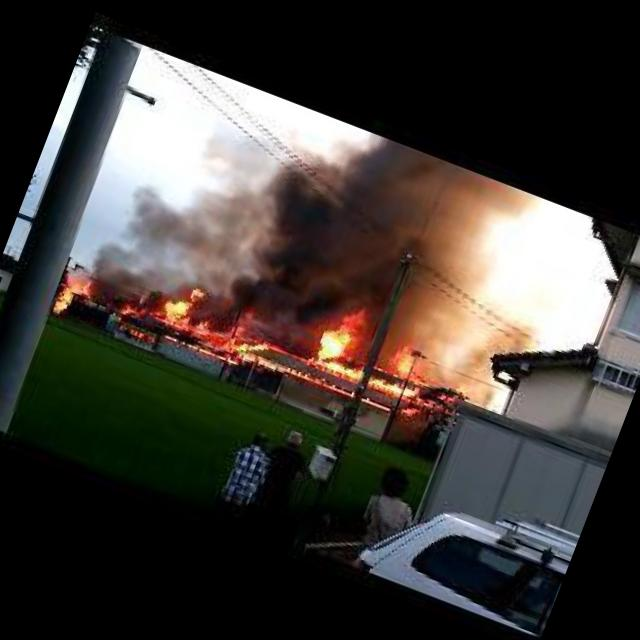fire: (112, 262, 277, 366), (305, 311, 432, 403), (245, 350, 392, 416), (401, 372, 472, 434), (162, 332, 242, 368), (53, 276, 92, 320), (115, 324, 153, 342)
smoke: (200, 91, 539, 387), (78, 156, 232, 335)
